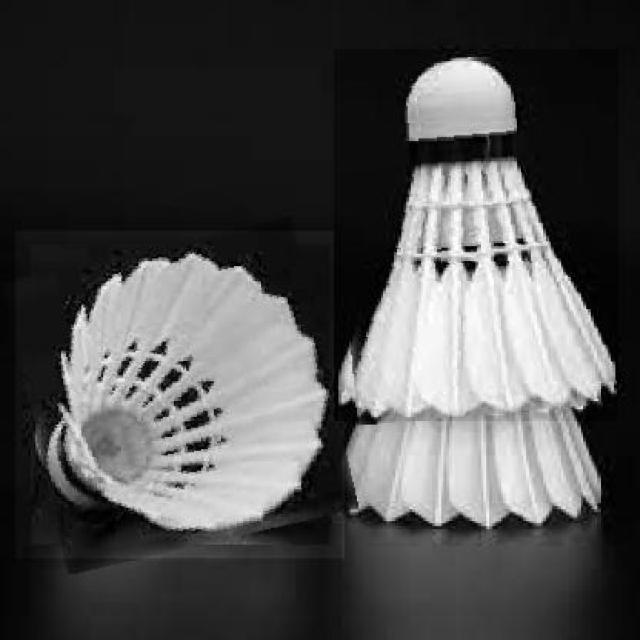Shuttlecock: (16, 231, 344, 558), (334, 49, 618, 420)
